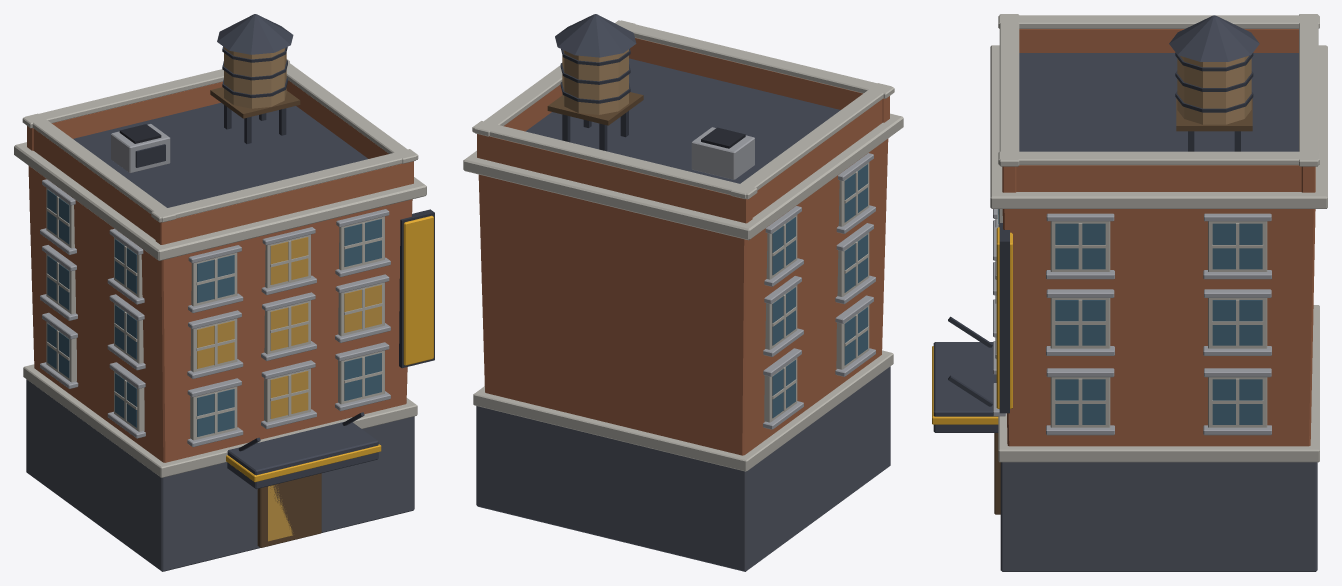
Rendered from Stylized_Apoc_Building_05_Shattered_Hotel_Midrise.fbx.
The picture shows the model from 3 angles, left to right: view 1: azimuth 30°, elevation 25°; view 2: azimuth 150°, elevation 25°; view 3: azimuth 270°, elevation 25°; orthographic projection. The views are drawn at different scales.
Visible parts, largest first — view 1: Stylized_Apoc_Building_05_Shattered_Hotel_Midrise; view 2: Stylized_Apoc_Building_05_Shattered_Hotel_Midrise; view 3: Stylized_Apoc_Building_05_Shattered_Hotel_Midrise.
Part boxes in pixels (bbox=[...]): Stylized_Apoc_Building_05_Shattered_Hotel_Midrise: bbox=[14, 14, 434, 571]; Stylized_Apoc_Building_05_Shattered_Hotel_Midrise: bbox=[463, 14, 903, 571]; Stylized_Apoc_Building_05_Shattered_Hotel_Midrise: bbox=[932, 14, 1327, 571].
Bounding box in the file's own units: 6.46 × 9.81 × 6.8.
